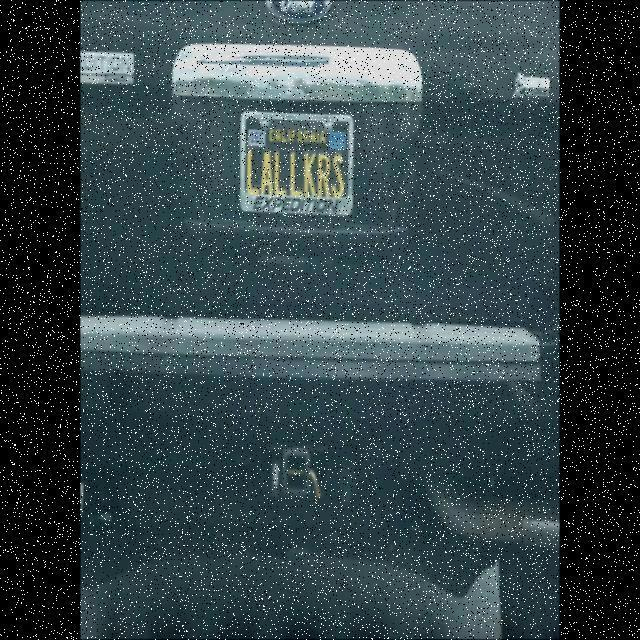LicensePlate: (235, 98, 365, 234)
